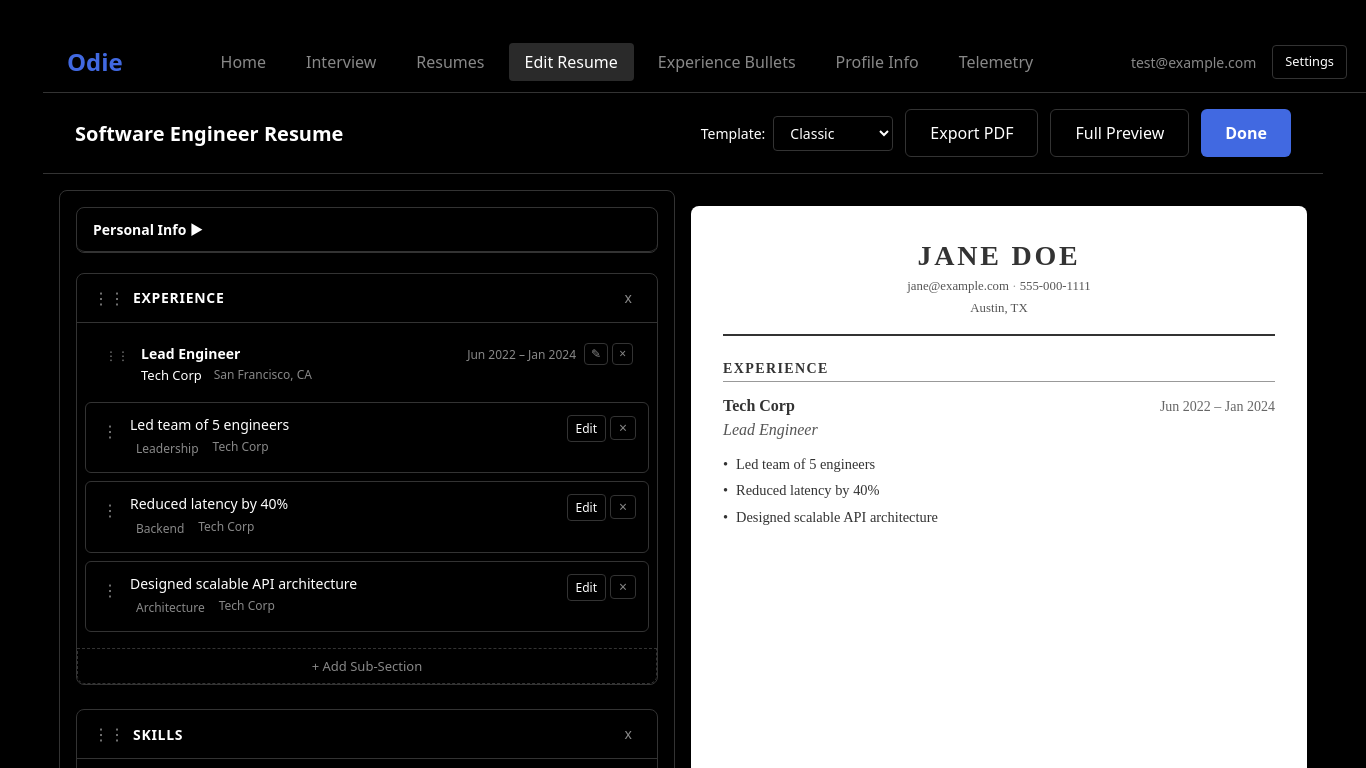
it: ResumeBuilderPage › should toggle preview mode
This screenshot has width=1366, height=768.
Click the button with test id "toggle-preview".
click(1120, 133)  # box top-left (1050, 109), bottom-right (1189, 157)
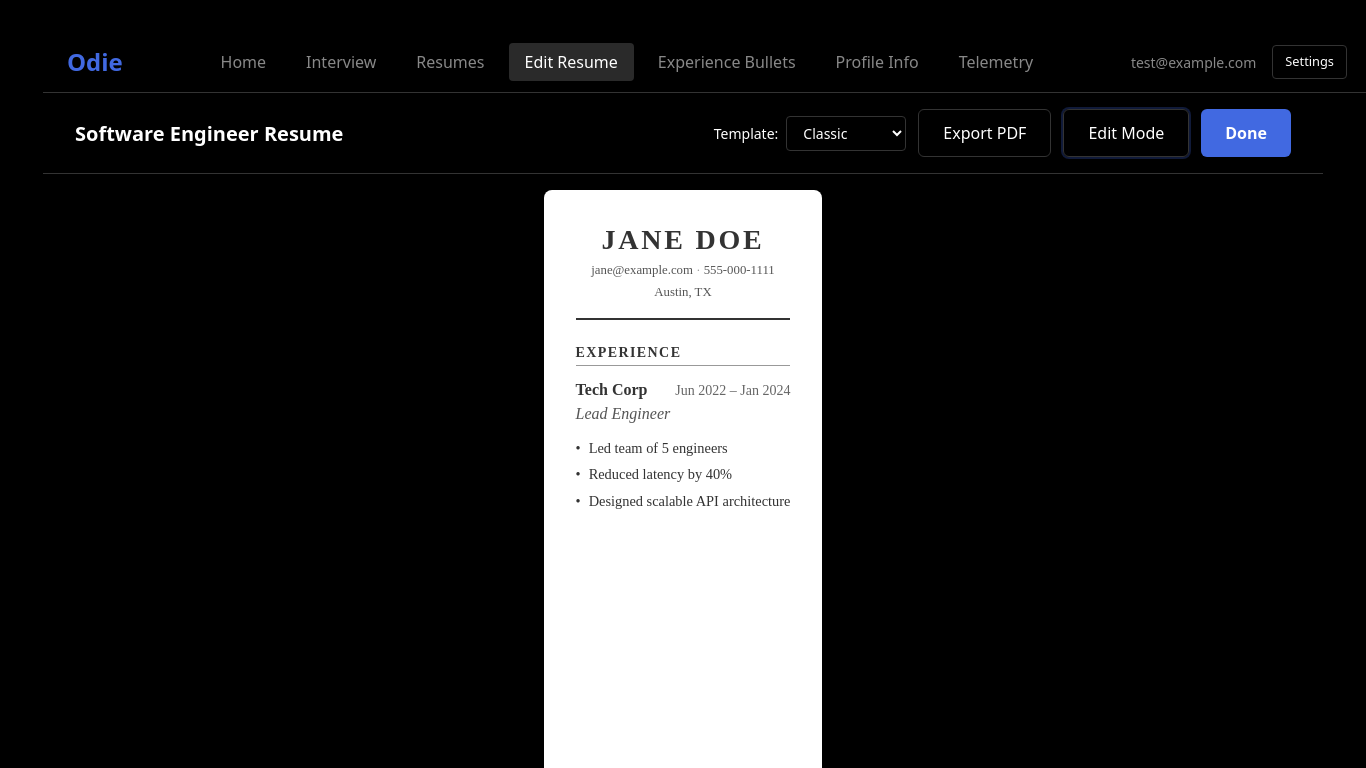
Expected: the button "Edit Mode" is shown, top-left (1063, 109), bottom-right (1189, 157)
